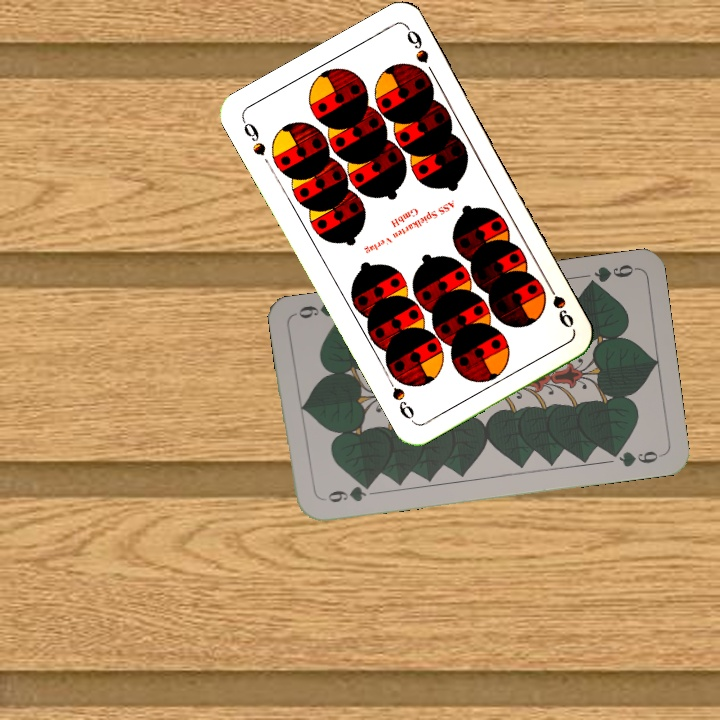G9: (581, 260, 639, 291), (317, 479, 375, 505)
S9: (542, 277, 577, 331), (238, 115, 269, 159)
